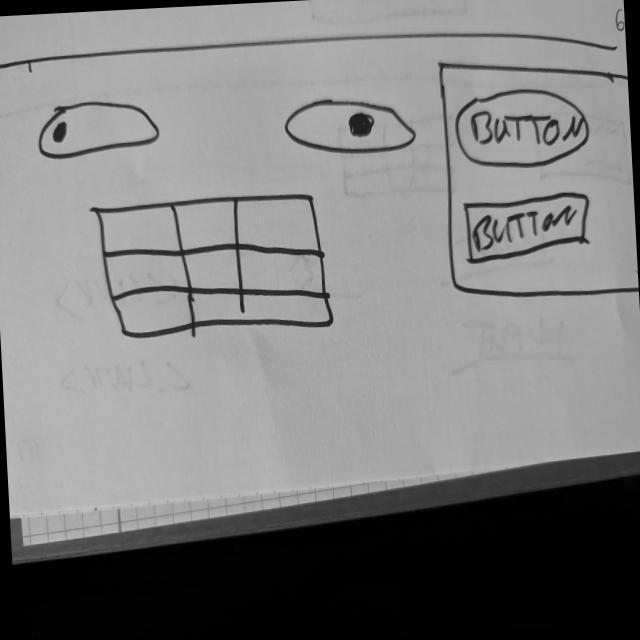button: (454, 85, 594, 175), (462, 189, 596, 270)
container: (438, 50, 640, 307)
table: (91, 191, 337, 344)
toggle: (283, 94, 419, 162), (36, 96, 165, 164)
